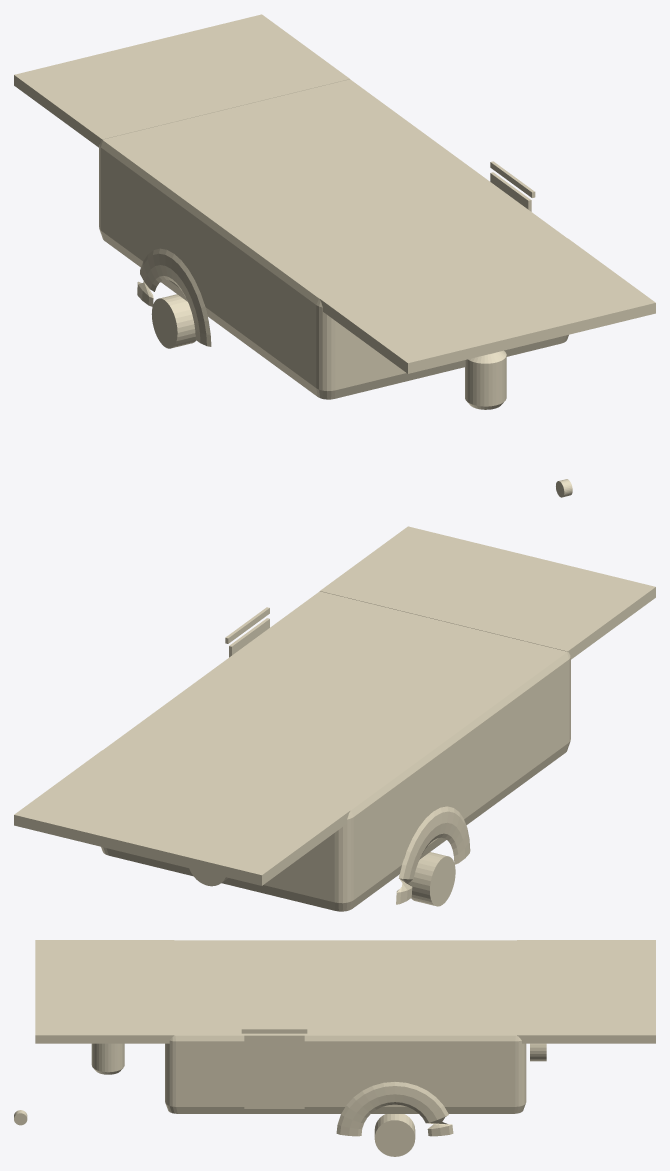
Rendered from vintage-windup-camper--enamel.glb.
3 views of the same model, one above another, from view 1: azimuth 30°, elevation 25°; view 2: azimuth 150°, elevation 25°; view 3: azimuth 270°, elevation 25° (orthographic). The views are drawn at different scales.
Visible parts, largest first — view 1: vintage-windup-camper; view 2: vintage-windup-camper; view 3: vintage-windup-camper.
Part boxes in pixels (x1,y1,x2,y2): vintage-windup-camper: (14,14,655,497); vintage-windup-camper: (14,526,655,911); vintage-windup-camper: (14,940,655,1156).
Bounding box in the file's own units: 2.31 × 1.38 × 5.87.
